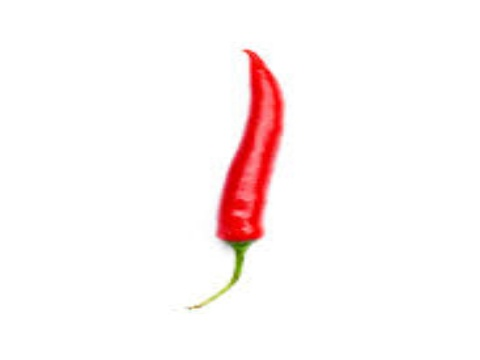Chilli: (199, 39, 295, 309)
